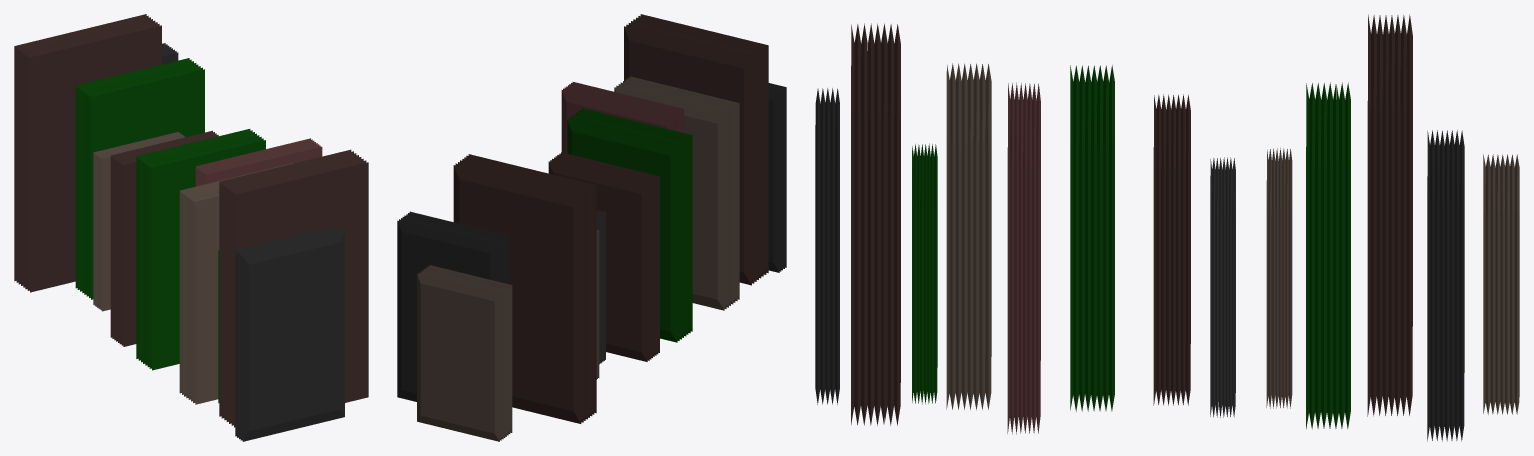
Rendered from Livres_2.fbx.
3 views of the same model, side by side, from view 1: azimuth 30°, elevation 25°; view 2: azimuth 150°, elevation 25°; view 3: azimuth 270°, elevation 25° (orthographic). The views are drawn at different scales.
Visible parts, largest first — view 1: pCube2723, pCube2738, pCube2720, pCube2711, pCube2730, pCube2727, pCube2733, pCube2731, pCube2714, pCube2701, pCube2712, pCube2713 (+14 smaller); view 2: pCube2736, pCube2732, pCube2713, pCube2737, pCube2706, pCube2703, pCube2705, pCube2720, pCube2710, pCube2738, pCube2728, pCube2730 (+17 smaller); view 3: pCube2731, pCube2713, pCube2720, pCube2736, pCube2738, pCube2714, pCube2727, pCube2706, pCube2719, pCube2730, pCube2711, pCube2701 (+26 smaller).
Part boxes in pixels (left/top/right/bottom): pCube2723: left=239, top=228, right=344, bottom=441; pCube2738: left=25, top=22, right=161, bottom=292; pCube2720: left=231, top=158, right=368, bottom=427; pCube2711: left=86, top=66, right=204, bottom=299; pCube2730: left=147, top=136, right=265, bottom=370; pCube2727: left=191, top=192, right=219, bottom=404; pCube2733: left=119, top=158, right=136, bottom=346; pCube2731: left=224, top=153, right=361, bottom=423; pCube2714: left=18, top=17, right=155, bottom=287; pCube2701: left=141, top=132, right=259, bottom=365; pCube2712: left=80, top=61, right=198, bottom=294; pCube2713: left=219, top=149, right=353, bottom=418; pCube2736: left=453, top=162, right=585, bottom=423; pCube2732: left=417, top=271, right=503, bottom=441; pCube2713: left=624, top=23, right=756, bottom=285; pCube2737: left=548, top=158, right=651, bottom=361; pCube2706: left=614, top=84, right=728, bottom=310; pCube2703: left=567, top=116, right=681, bottom=342; pCube2705: left=397, top=218, right=499, bottom=401; pCube2720: left=636, top=14, right=768, bottom=276; pCube2710: left=768, top=86, right=782, bottom=272; pCube2738: left=464, top=154, right=596, bottom=416; pCube2728: left=561, top=87, right=676, bottom=153; pCube2730: left=578, top=108, right=692, bottom=334; pCube2731: left=867, top=23, right=884, bottom=425; pCube2713: left=884, top=23, right=900, bottom=425; pCube2720: left=851, top=23, right=867, bottom=425; pCube2736: left=1397, top=14, right=1412, bottom=415; pCube2738: left=1367, top=14, right=1382, bottom=416; pCube2714: left=1382, top=15, right=1397, bottom=415; pCube2727: left=946, top=63, right=961, bottom=409; pCube2706: left=976, top=64, right=991, bottom=410; pCube2719: left=961, top=63, right=976, bottom=410; pCube2730: left=1070, top=65, right=1085, bottom=411; pCube2711: left=1306, top=83, right=1321, bottom=429; pCube2701: left=1085, top=65, right=1100, bottom=411.
Size of the model in its own units: 12.42 by 16.49 by 33.
